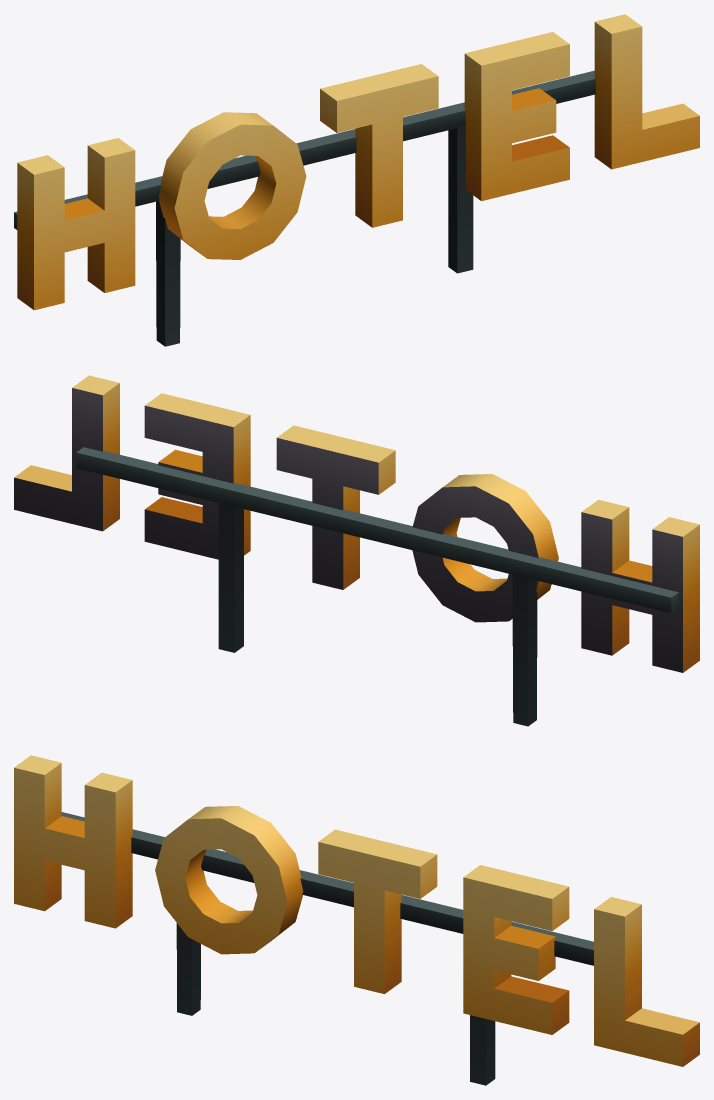
The model's file is Title_1B.fbx.
3 renders of one model, top to bottom at view 1: azimuth 30°, elevation 25°; view 2: azimuth 150°, elevation 25°; view 3: azimuth 330°, elevation 25°, orthographic.
Visible parts, largest first — view 1: Title_1B, Title_Addon_1B; view 2: Title_1B, Title_Addon_1B; view 3: Title_1B, Title_Addon_1B.
Part boxes in pixels (bbox=[...]): Title_1B: bbox=[17, 14, 699, 310]; Title_Addon_1B: bbox=[14, 70, 595, 346]; Title_1B: bbox=[14, 375, 699, 672]; Title_Addon_1B: bbox=[76, 447, 678, 726]; Title_1B: bbox=[14, 755, 699, 1066]; Title_Addon_1B: bbox=[61, 812, 593, 1085].
Bounding box in the file's own units: 4.56 × 1.43 × 0.2908.
